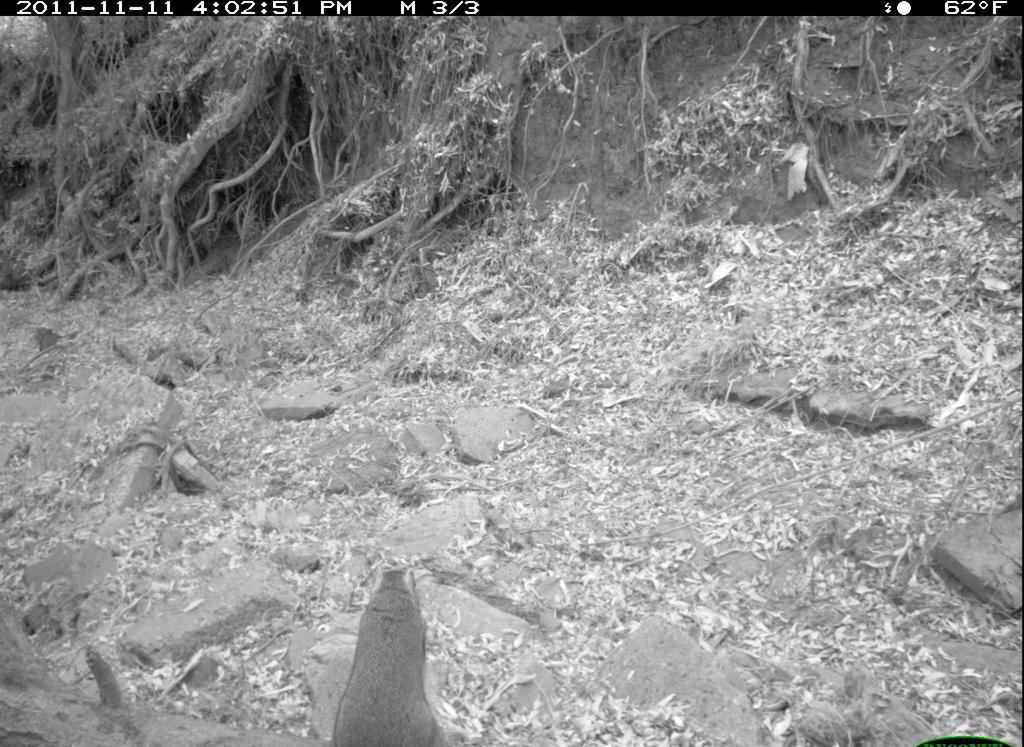squirrel: (304, 545, 491, 747)
